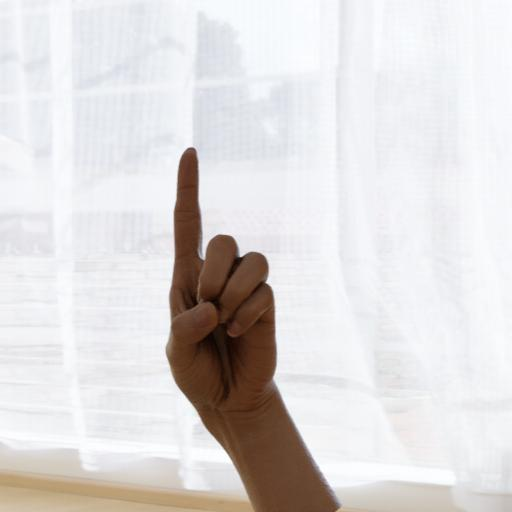D: (151, 140, 285, 432)
